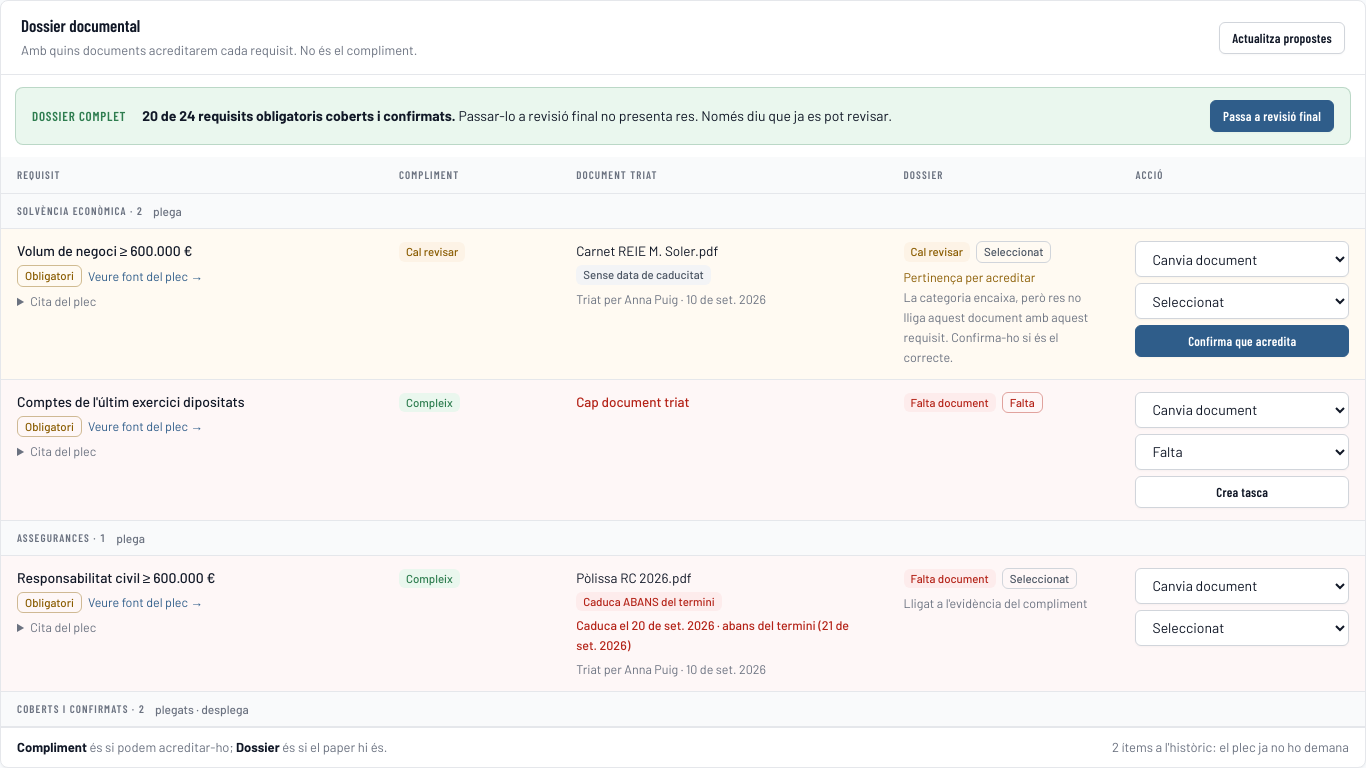
Test: DossierSection · compliment ≠ dossier, triat ≠ acreditat › ja a revisió final: cap botó; advance que falla amb els blocadors del backend no mou res
Click the button "Passa a revisió final".
click(1272, 116)  # box x1=1210 y1=100 x2=1334 y2=132
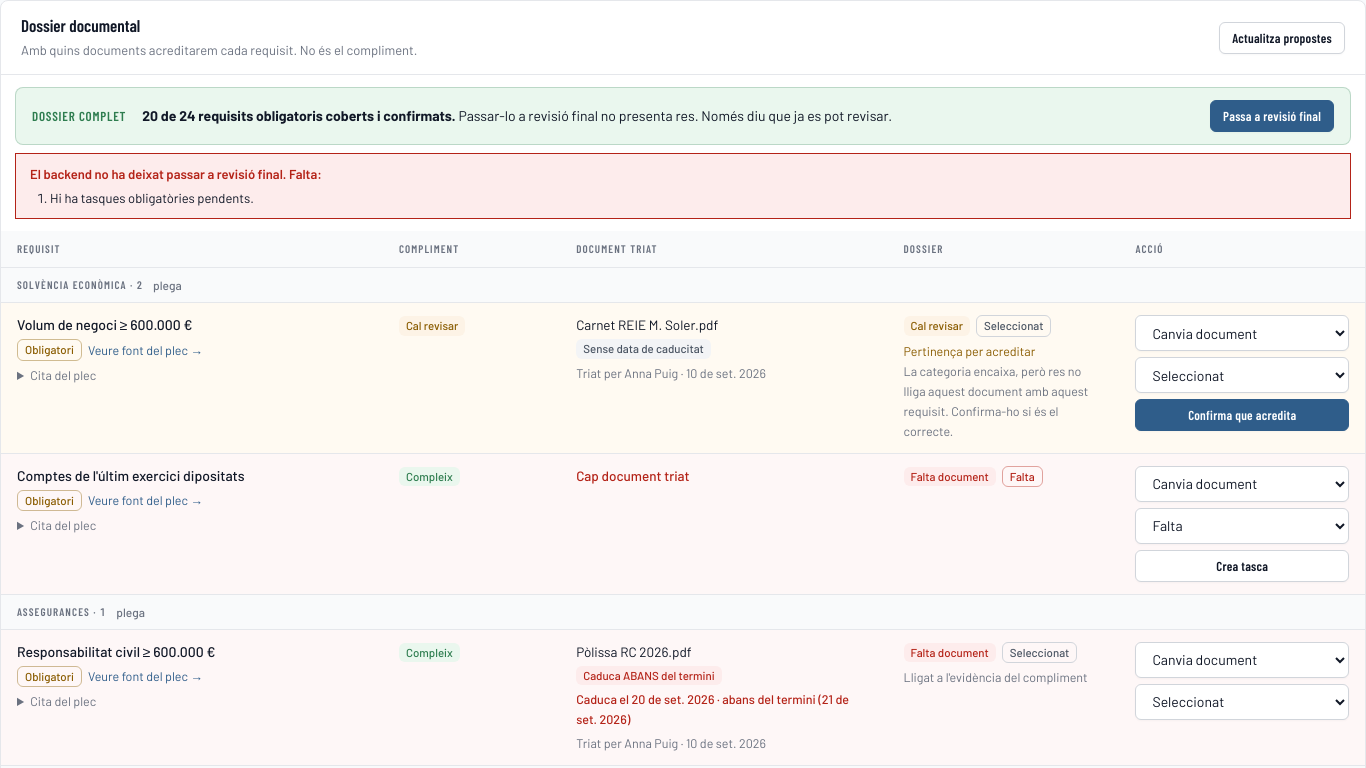
expect the text "Hi ha tasques obligatòries pendents." is shown: met, box x1=50 y1=190 x2=254 y2=206
